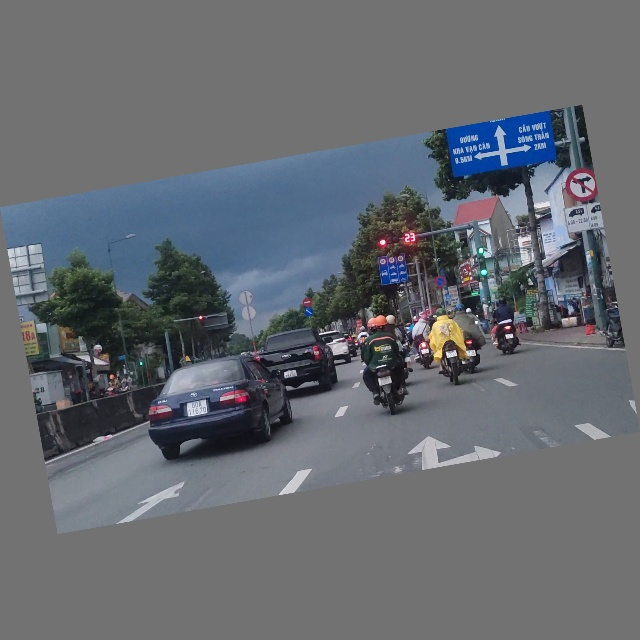P.102: (302, 298, 312, 307)
P.127*60: (378, 258, 387, 266), (387, 257, 395, 265), (397, 255, 405, 263)
P.131a: (432, 275, 448, 290)
P.137: (563, 166, 599, 205)
R.302a: (303, 306, 314, 317)
R.415a: (379, 262, 408, 286)
